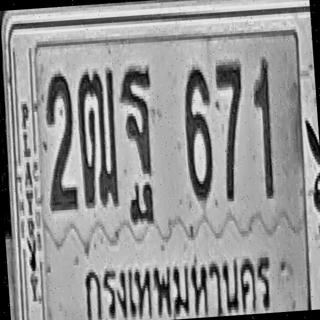A16: (118, 63, 159, 201)
A18: (74, 66, 122, 207)
N01: (250, 56, 276, 199)
N02: (41, 70, 79, 211)
N06: (180, 62, 217, 203)
N07: (214, 60, 249, 200)
P04: (76, 236, 277, 320)
